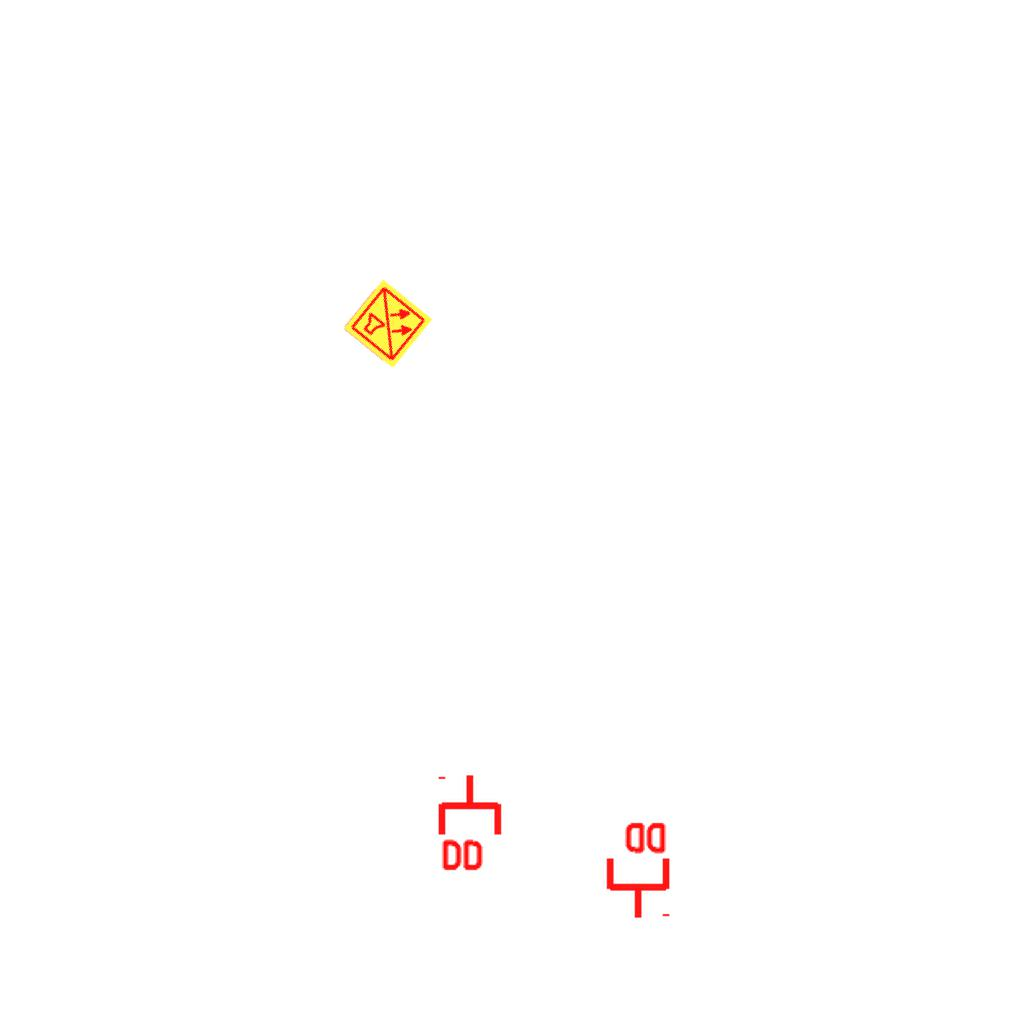Datenanschluss_zweifach: (437, 772, 506, 875), (602, 818, 671, 921)
OKW_Multisensormelder_(Kombination_optischer_Rauch-Kahlenmonoxid_Waerme-Melder): (341, 277, 435, 371)
